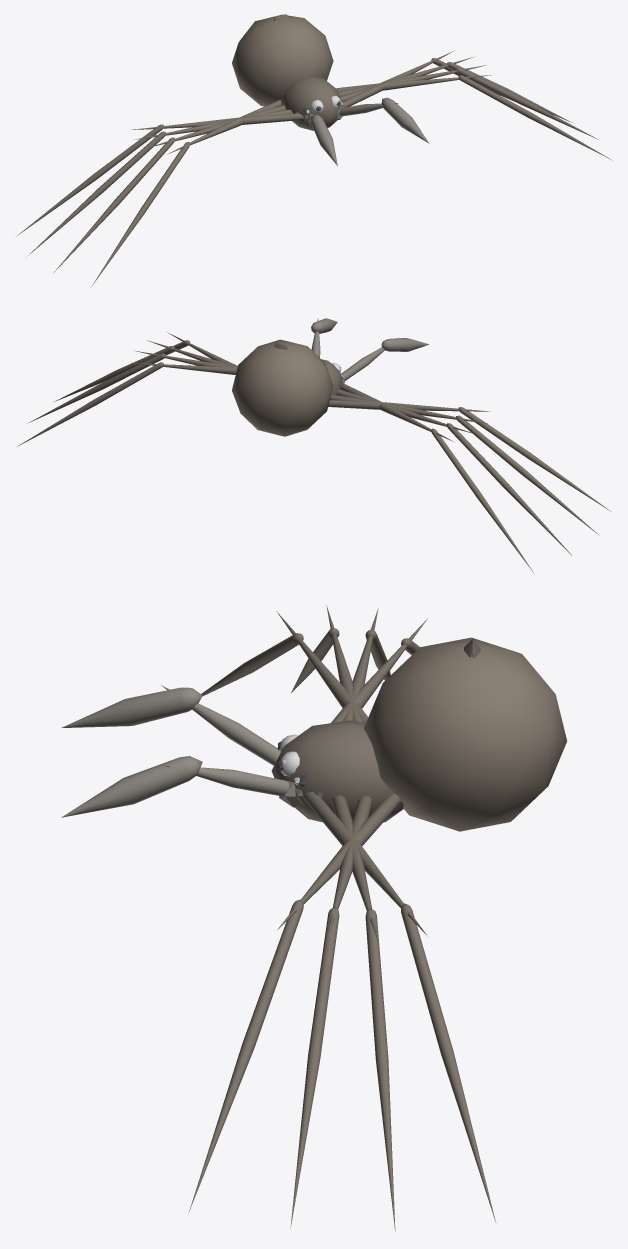
Rendered from oedignatha-scrobiculata.glb.
3 renders of one model, top to bottom at view 1: azimuth 30°, elevation 25°; view 2: azimuth 150°, elevation 25°; view 3: azimuth 270°, elevation 25°, orthographic. The views are drawn at different scales.
Parts seen in each view (by area): view 1: abdomen, cephalothorax, leg0-r0, leg3-l0, leg1-r0, leg3-r0, leg2-r0, leg2-l0, leg1-l0, leg0-l0, palp-l1, palp-r1; view 2: abdomen, leg3-r0, leg2-r0, leg1-r0, leg0-r0, leg0-l0, leg1-l0, leg2-l0, palp-r1, palp-r0, leg3-l0; view 3: abdomen, cephalothorax, leg0-l0, leg3-l0, leg1-l0, leg2-l0, palp-l1, palp-r1, leg3-r0, palp-r0, palp-l0, leg2-r0 (+2 smaller).
Boxes of the visible parts, bbox=[...] form: abdomen: bbox=[232, 14, 333, 106]; cephalothorax: bbox=[280, 77, 342, 130]; leg0-r0: bbox=[16, 113, 304, 236]; leg3-l0: bbox=[336, 75, 612, 160]; leg1-r0: bbox=[26, 109, 292, 257]; leg3-r0: bbox=[91, 100, 281, 286]; leg2-r0: bbox=[53, 105, 285, 273]; leg2-l0: bbox=[338, 65, 598, 139]; leg1-l0: bbox=[340, 56, 573, 123]; leg0-l0: bbox=[342, 51, 514, 107]; palp-l1: bbox=[381, 97, 429, 143]; palp-r1: bbox=[311, 115, 337, 165]; abdomen: bbox=[232, 339, 333, 436]; leg3-r0: bbox=[328, 400, 611, 511]; leg2-r0: bbox=[330, 394, 599, 535]; leg1-r0: bbox=[336, 389, 571, 555]; leg0-r0: bbox=[340, 383, 533, 572]; leg0-l0: bbox=[17, 362, 237, 446]; leg1-l0: bbox=[29, 350, 237, 422]; leg2-l0: bbox=[54, 340, 236, 401]; palp-r1: bbox=[381, 338, 429, 351]; palp-r0: bbox=[341, 337, 399, 380]; leg3-l0: bbox=[166, 332, 237, 366]; abdomen: bbox=[364, 637, 566, 831]; cephalothorax: bbox=[271, 720, 403, 822]; leg0-l0: bbox=[303, 792, 496, 1223]; leg3-l0: bbox=[189, 793, 401, 1211]; leg1-l0: bbox=[332, 795, 395, 1231]; leg2-l0: bbox=[290, 795, 372, 1229]; palp-l1: bbox=[61, 756, 202, 817]; palp-r1: bbox=[61, 687, 202, 727]; leg3-r0: bbox=[201, 611, 368, 723]; palp-r0: bbox=[161, 685, 280, 765]; palp-l0: bbox=[161, 764, 289, 796]; leg2-r0: bbox=[291, 605, 362, 722].
Bounding box in the file's own units: 1.44 × 0.41 × 0.5754.
